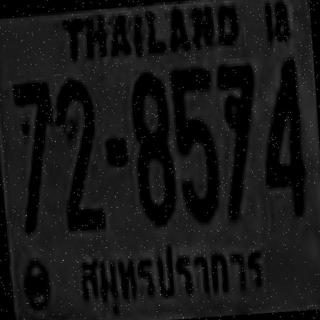N02: (53, 77, 99, 212), (56, 95, 102, 229)
N04: (255, 56, 306, 215)
N05: (168, 65, 220, 221), (168, 64, 218, 194)
N07: (11, 78, 58, 231), (11, 79, 56, 208)
N08: (128, 68, 174, 224)
P57: (72, 231, 275, 320)
